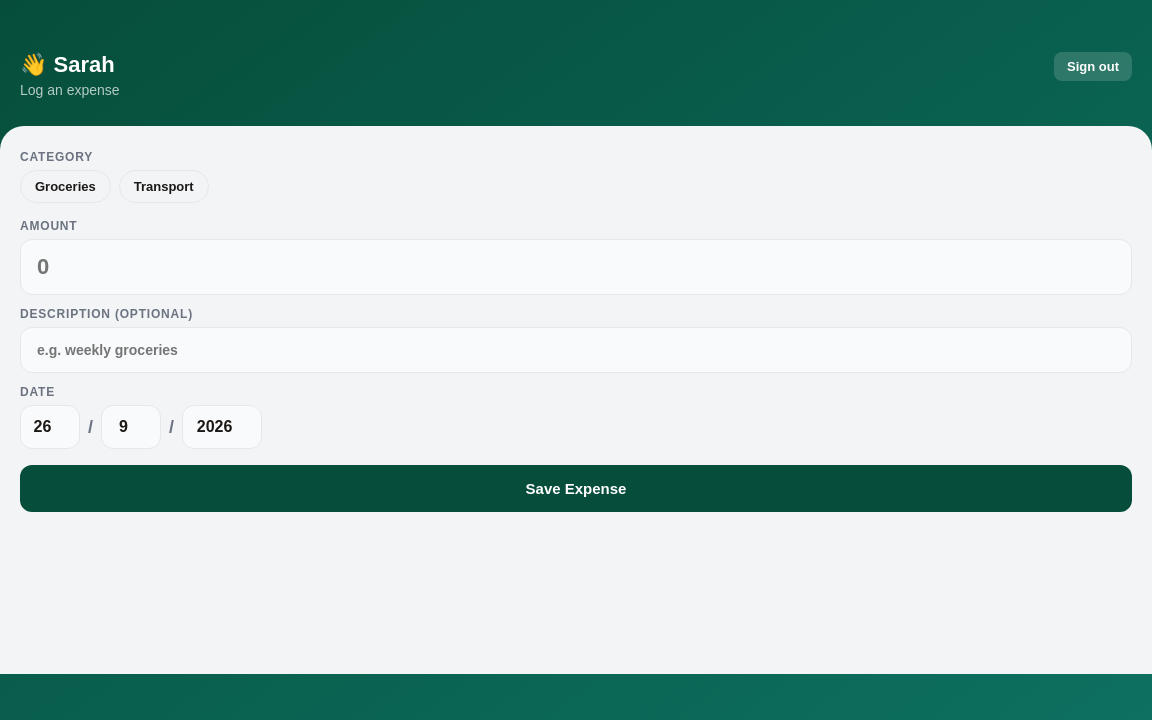
Test case: GuestTransactionForm › shows error when amount is empty on submit
Click the button with test id "guest-save-btn".
click(576, 488)  # box [20,465,1132,512]
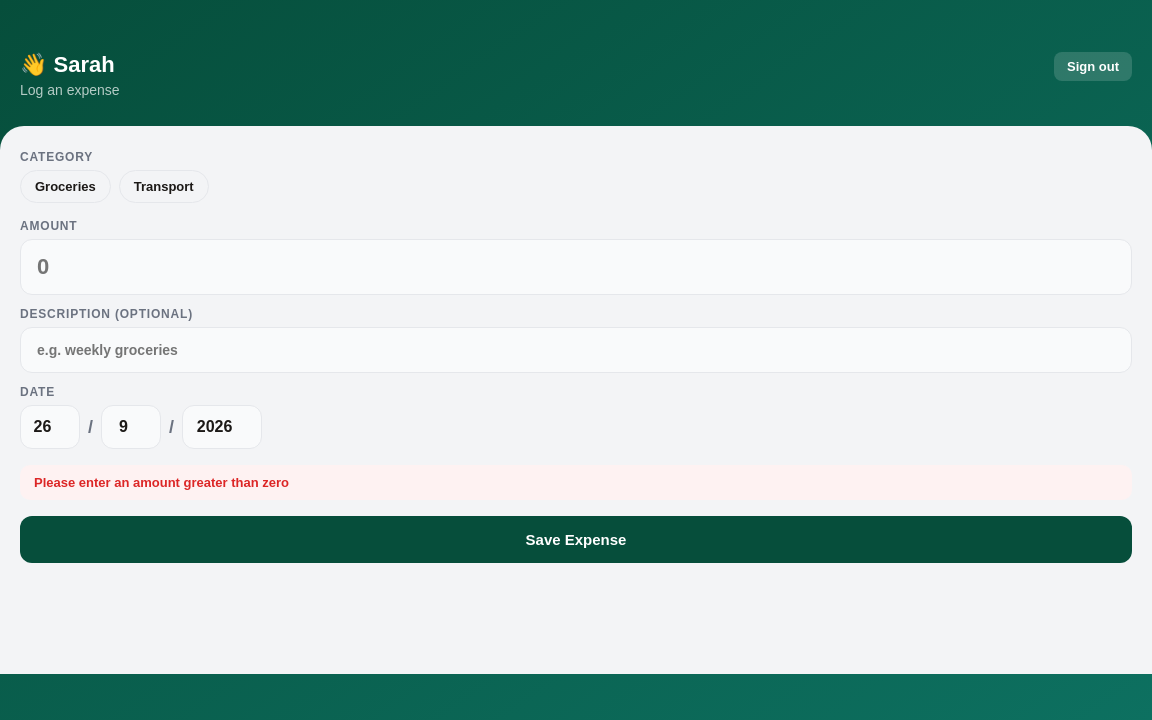
expect the text "Please enter an amount greater than zero" is shown: met, box [34,475,289,490]
